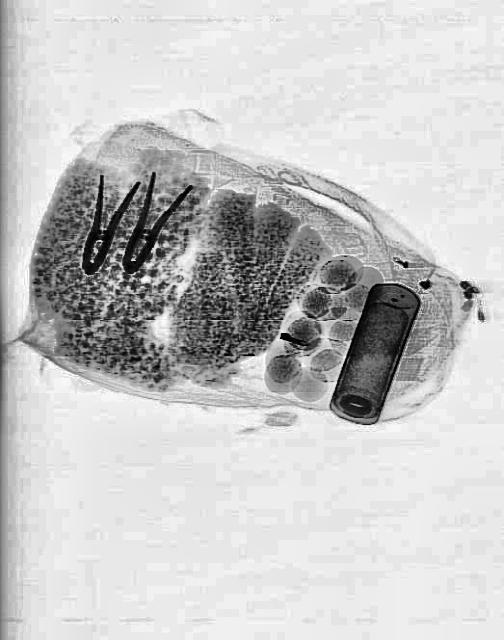Pliers: (108, 162, 190, 282), (65, 165, 139, 282)
